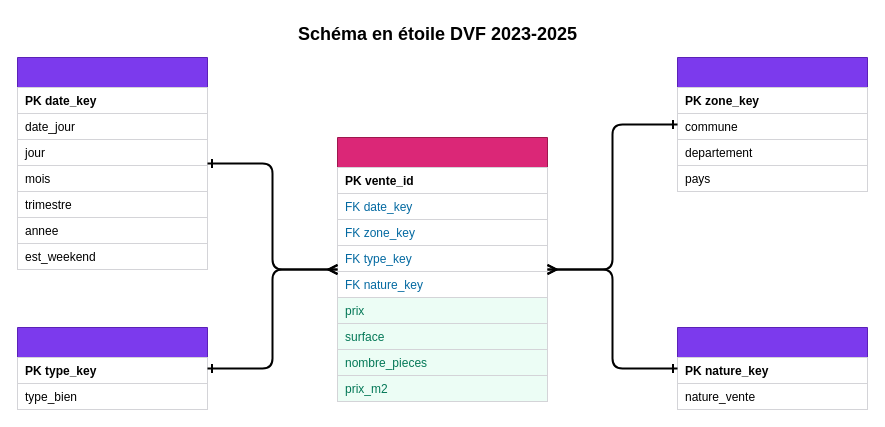
The diagram is 885 pixels wide and 427 high, and some of its shapes have lost their labels. Each missing label, with the box of its shape:
dim_date: (16, 56, 208, 270)
dim_nature_vente: (676, 326, 868, 410)
dim_type_bien: (16, 326, 208, 410)
dim_zone: (676, 56, 868, 192)
fct_ventes: (336, 136, 548, 402)
